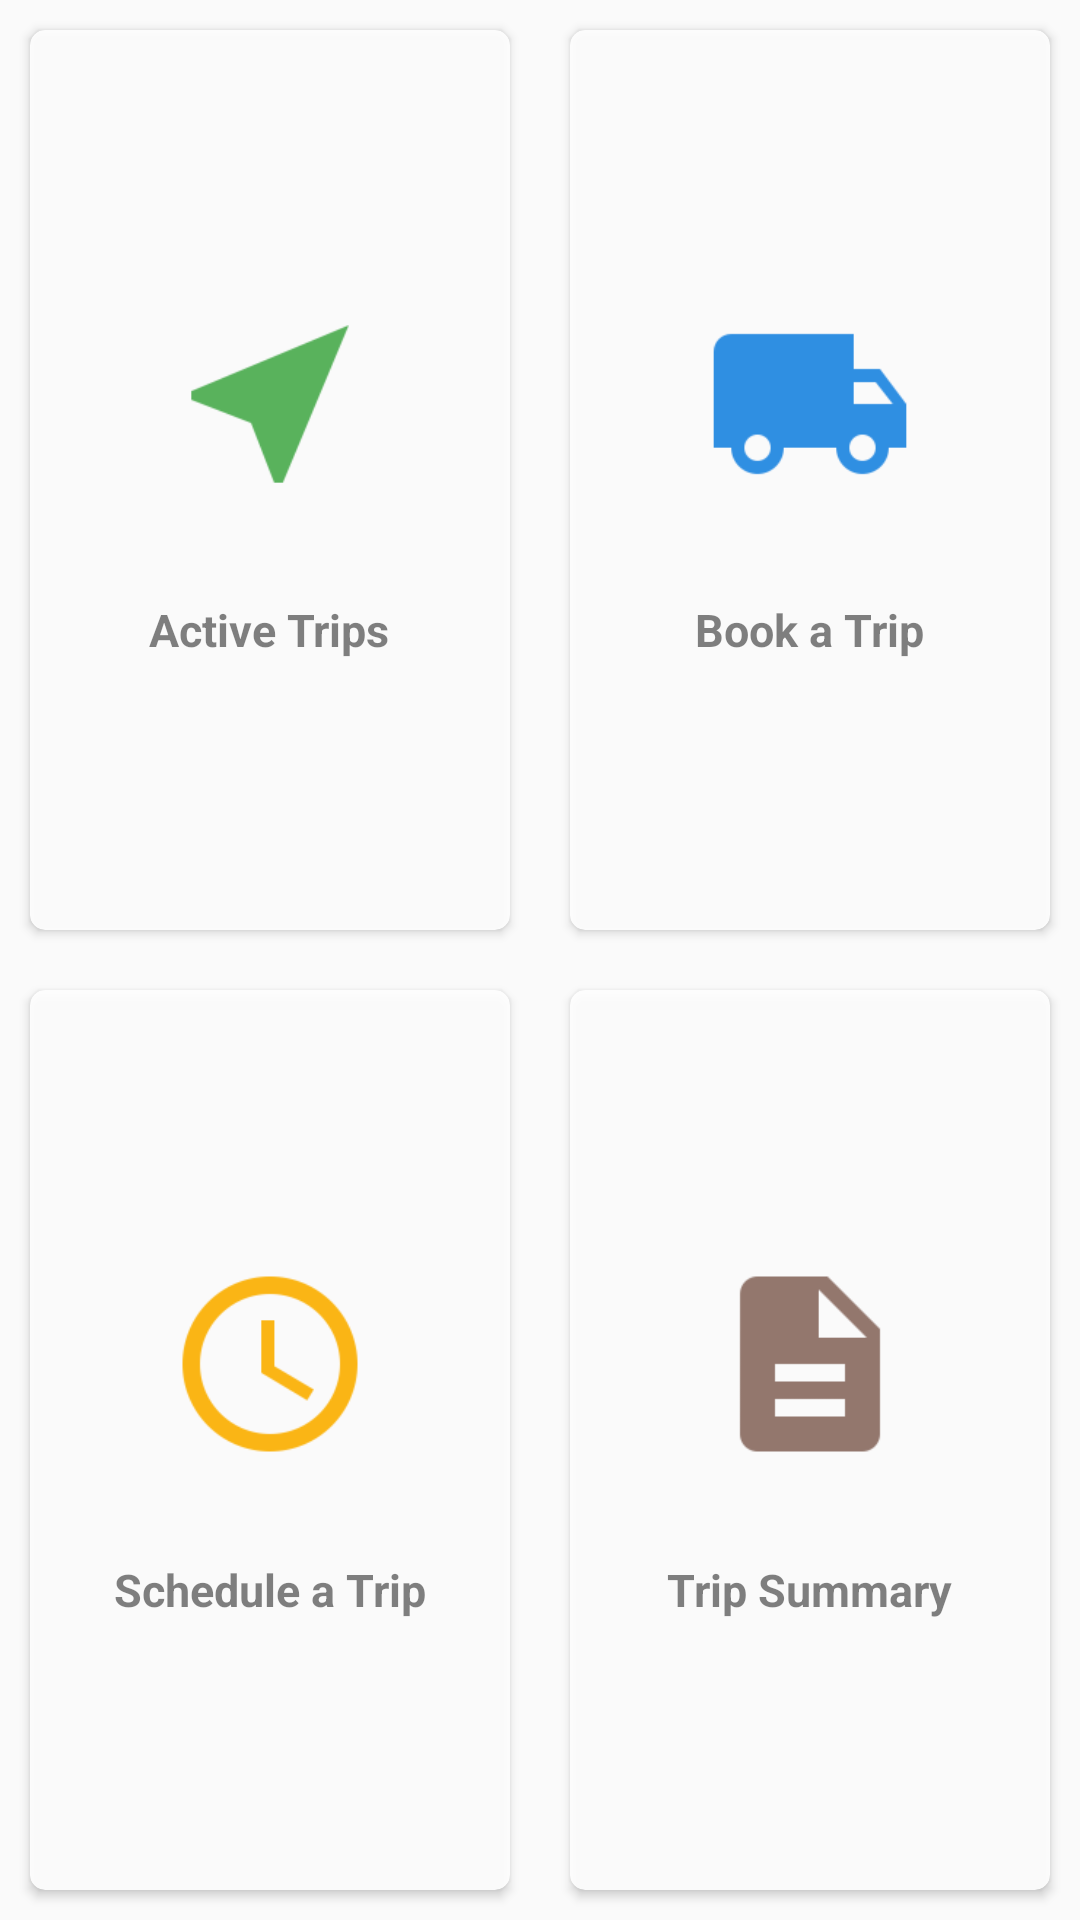

Point at icon controls on the screen. Image size 1080 x 1920, points as point (x, y).
access time amber: point (270, 1364)
description brown: point (810, 1364)
local shipping: point (810, 404)
near me: point (270, 404)
